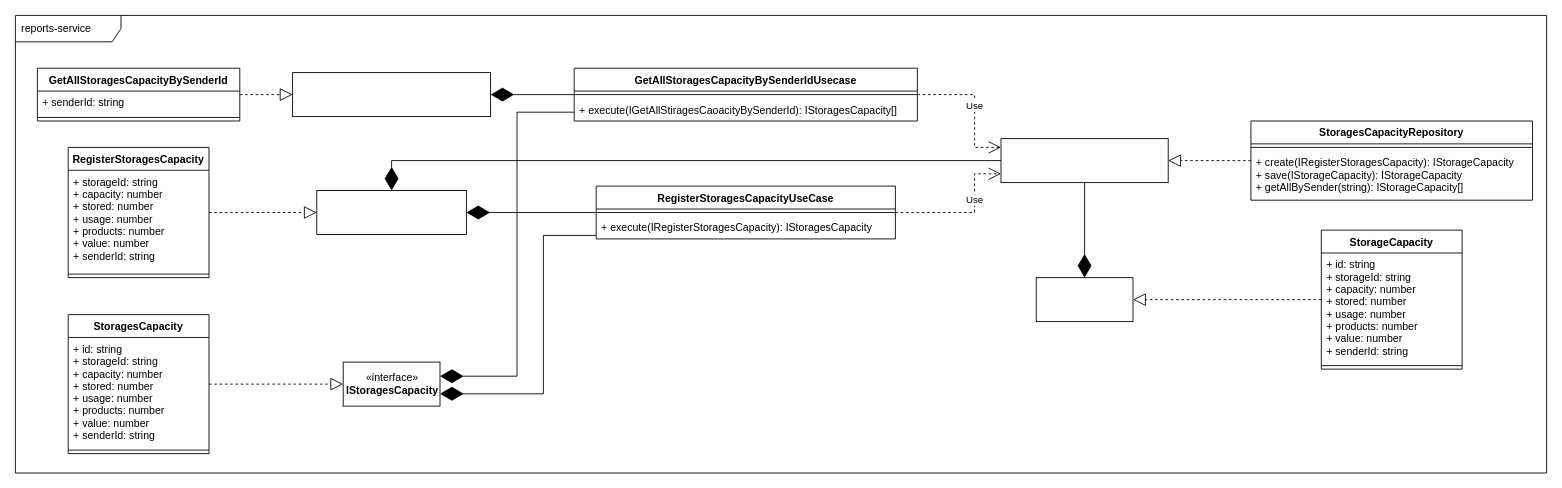
This 1562x488 diagram has some shape labels left out. The centre of each missing label's shape, as x and y in pixels:
"«interface» IGetAllStoragesCapacityBySenderId" goes at [391,94].
"«interface» IRegisterStoragesCapacity" goes at [391,212].
"«interface» IStorageCapacity" goes at [1084,299].
"«interface» IStoragesCapacityRepository" goes at [1084,160].
